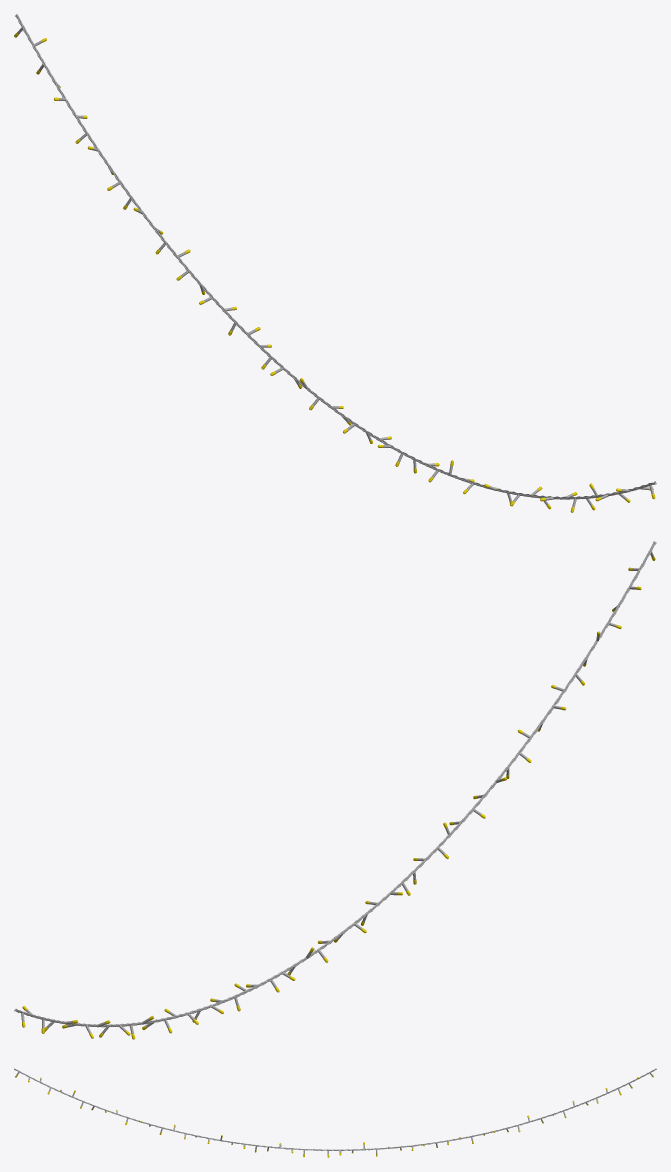
The model's file is fairylights_01.fbx.
The picture shows the model from 3 angles, top to bottom: view 1: azimuth 30°, elevation 25°; view 2: azimuth 150°, elevation 25°; view 3: azimuth 270°, elevation 25°; orthographic projection. The views are drawn at different scales.
Parts seen in each view (by area): view 1: fairylights1_light1; view 2: fairylights1_light1; view 3: fairylights1_light1.
Part boxes in pixels (box(x1,y1,x2,y2)): fairylights1_light1: box(14, 14, 656, 512); fairylights1_light1: box(14, 541, 656, 1039); fairylights1_light1: box(14, 1068, 656, 1157).
Size of the model in its own units: 0.2545 by 1.61 by 10.68.
